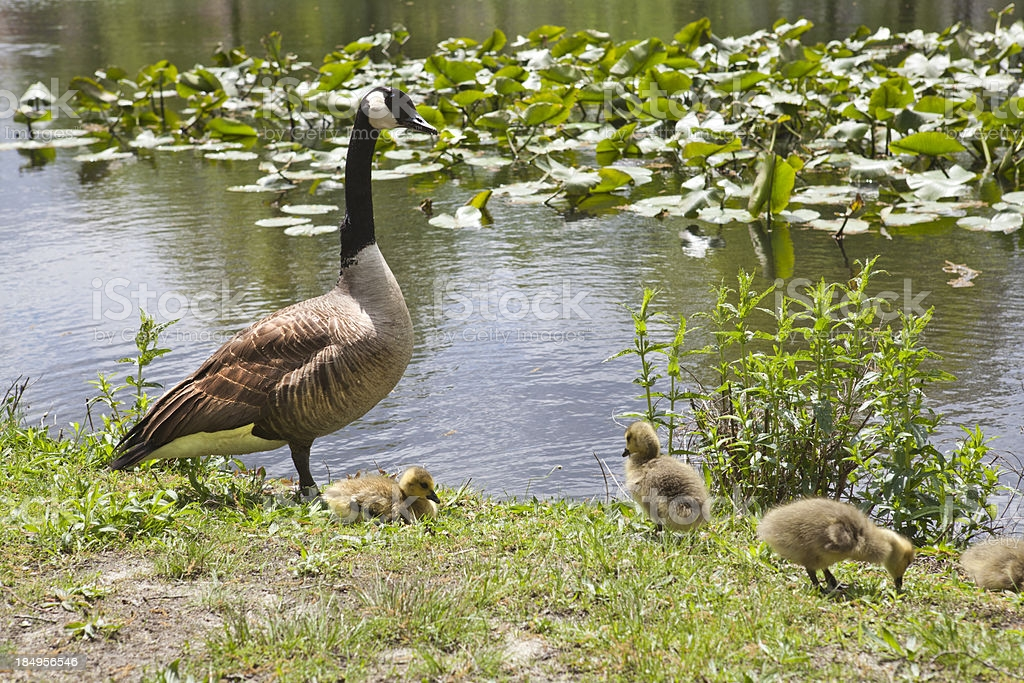goose: (91, 84, 441, 511)
